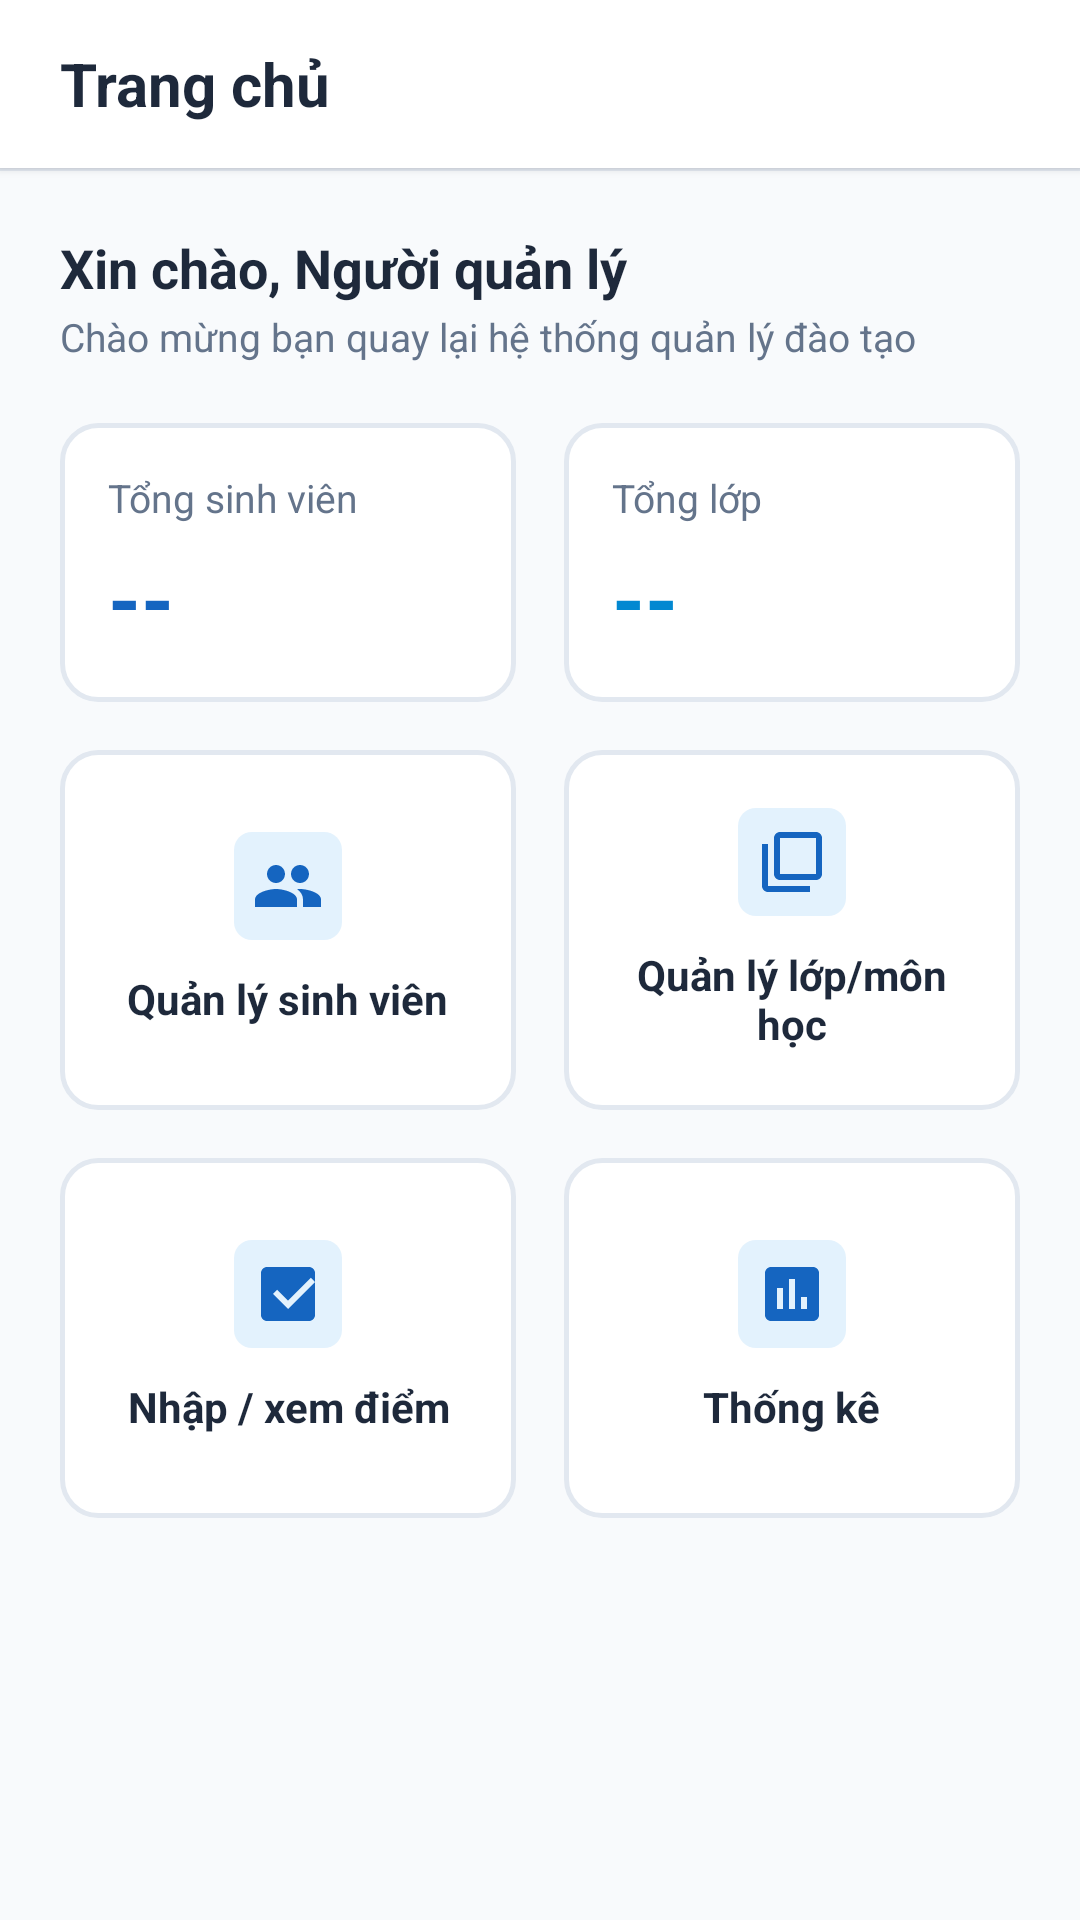

Icon click points for this 1080w x 1920h phone screenshot, format [x,y]:
class: [792,862]
grade: [288,1294]
stat: [792,1294]
student: [288,886]
